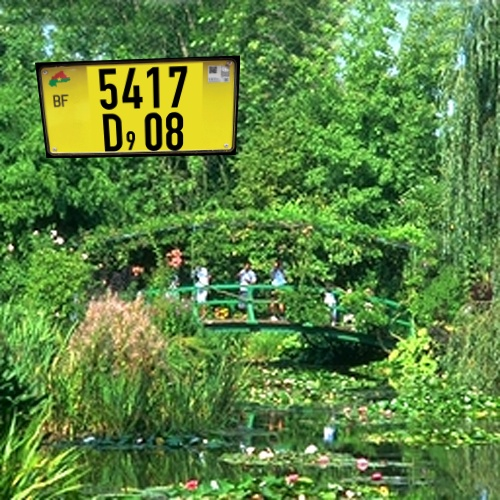plate: (24, 46, 254, 165)
